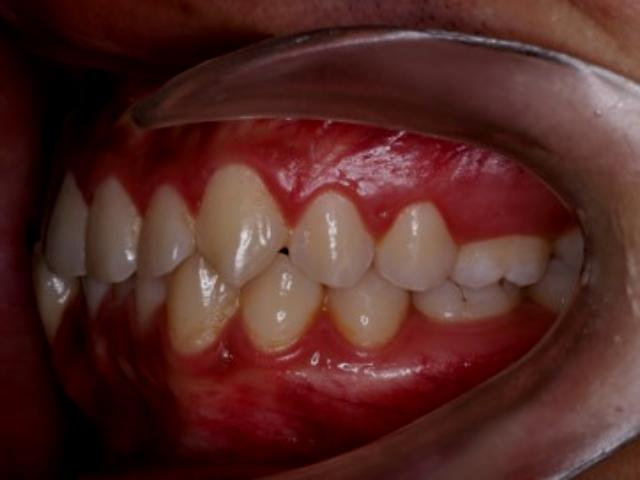canine class I: (168, 142, 326, 374)
molar class III 1/4: (408, 220, 552, 334)
